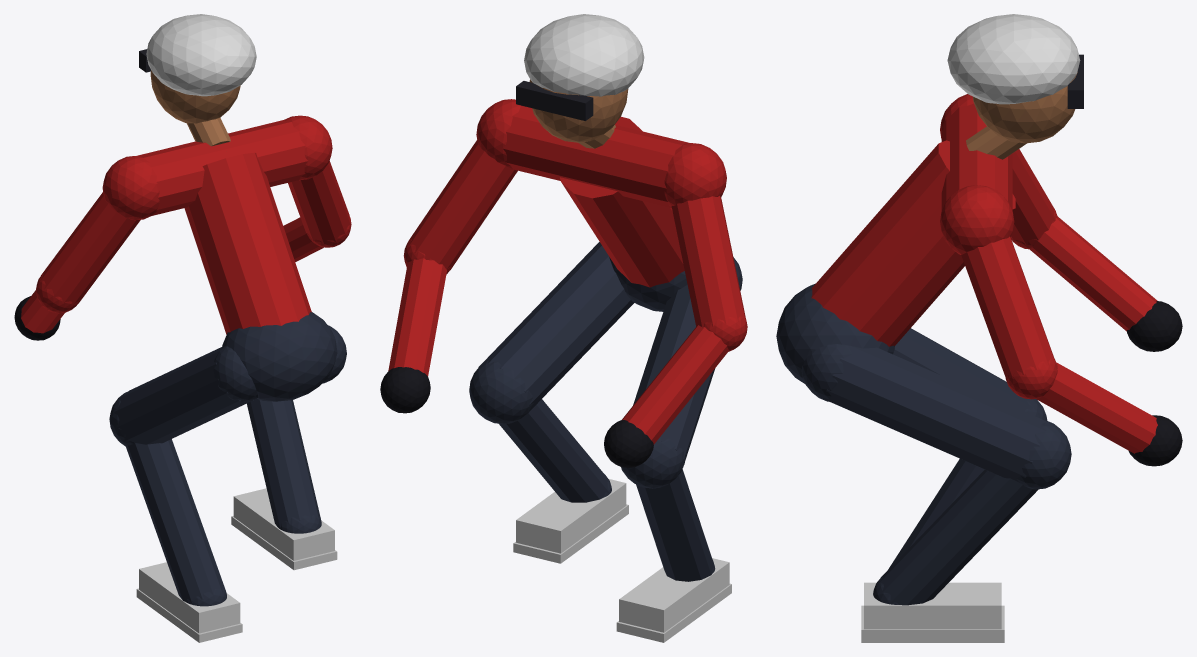
The model's file is rider-1.glb.
3 views of the same model, side by side, from view 1: azimuth 30°, elevation 25°; view 2: azimuth 150°, elevation 25°; view 3: azimuth 270°, elevation 25° (orthographic). The views are drawn at different scales.
Parts seen in each view (by area): view 1: rider_torso, rider_legs, rider_arms, rider_head; view 2: rider_legs, rider_arms, rider_torso, rider_head; view 3: rider_legs, rider_torso, rider_arms, rider_head.
Part boxes in pixels (x1,y1,x2,y2): rider_torso: [102, 115, 337, 401]; rider_legs: [109, 325, 346, 642]; rider_arms: [14, 161, 351, 340]; rider_head: [139, 14, 256, 146]; rider_legs: [469, 242, 742, 642]; rider_arms: [380, 140, 747, 467]; rider_torso: [476, 99, 726, 311]; rider_head: [516, 14, 644, 148]; rider_legs: [801, 328, 1071, 642]; rider_torso: [776, 94, 1015, 383]; rider_arms: [961, 149, 1182, 466]; rider_head: [947, 14, 1083, 159].
Size of the model in its own units: 0.784 by 1.35 by 0.78.
